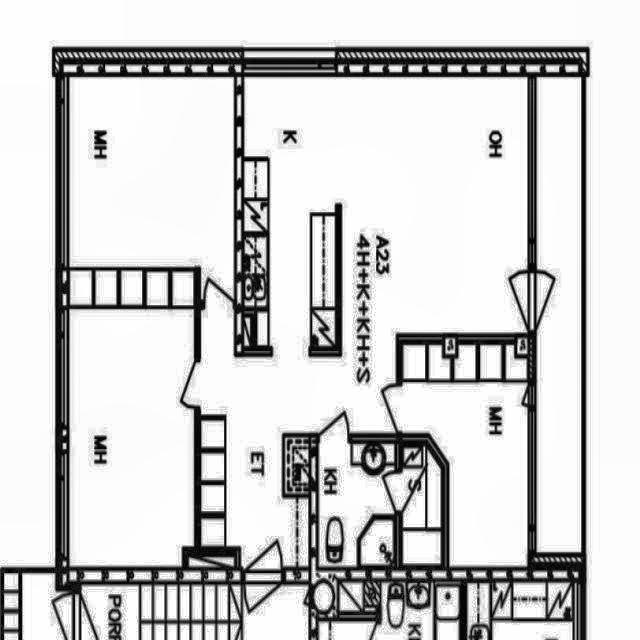room: (403, 346, 527, 567), (319, 444, 440, 565), (82, 585, 309, 639), (318, 582, 458, 639), (22, 573, 72, 639)
